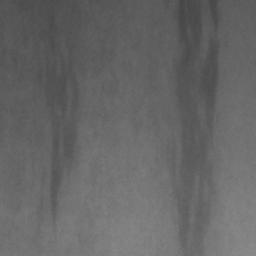Inclusion: (174, 0, 220, 256), (42, 61, 81, 214)
